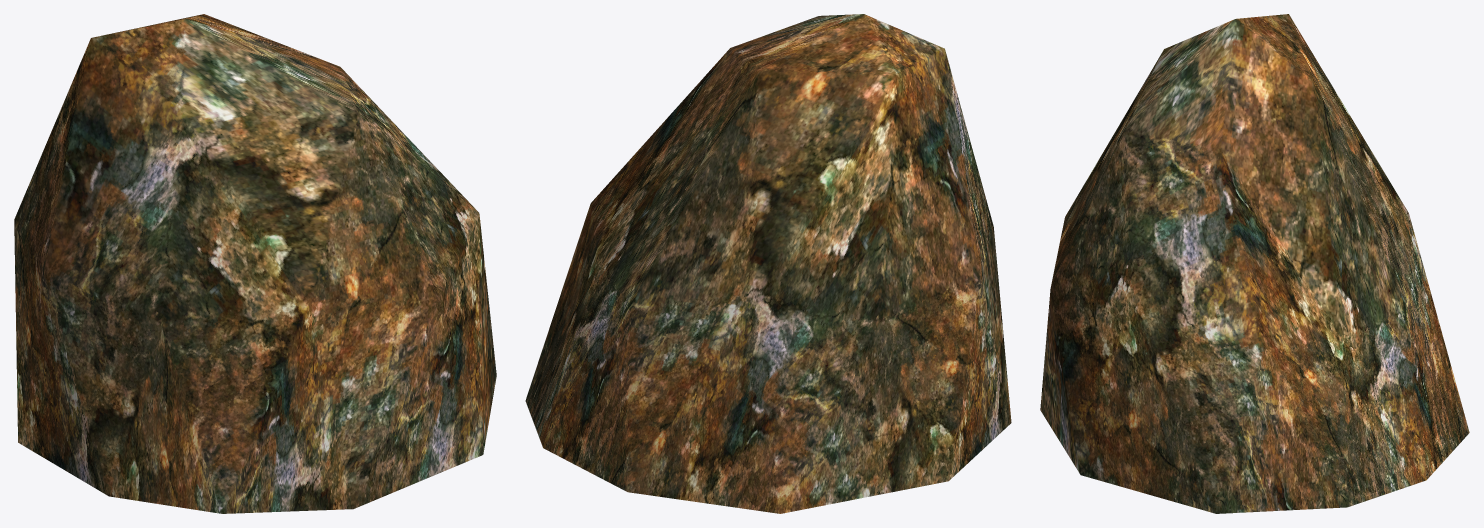
File: c_stone03.glb
3 views of the same model, side by side, from view 1: azimuth 30°, elevation 25°; view 2: azimuth 150°, elevation 25°; view 3: azimuth 270°, elevation 25° (orthographic). The views are drawn at different scales.
Parts seen in each view (by area): view 1: c_stone03; view 2: c_stone03; view 3: c_stone03.
Part boxes in pixels (box(x1,y1,x2,y2)): c_stone03: box(14, 14, 496, 513); c_stone03: box(525, 14, 1011, 513); c_stone03: box(1040, 14, 1469, 513).
Size of the model in its own units: 1.29 by 1.2 by 1.27.
1 material, 1 textured.
